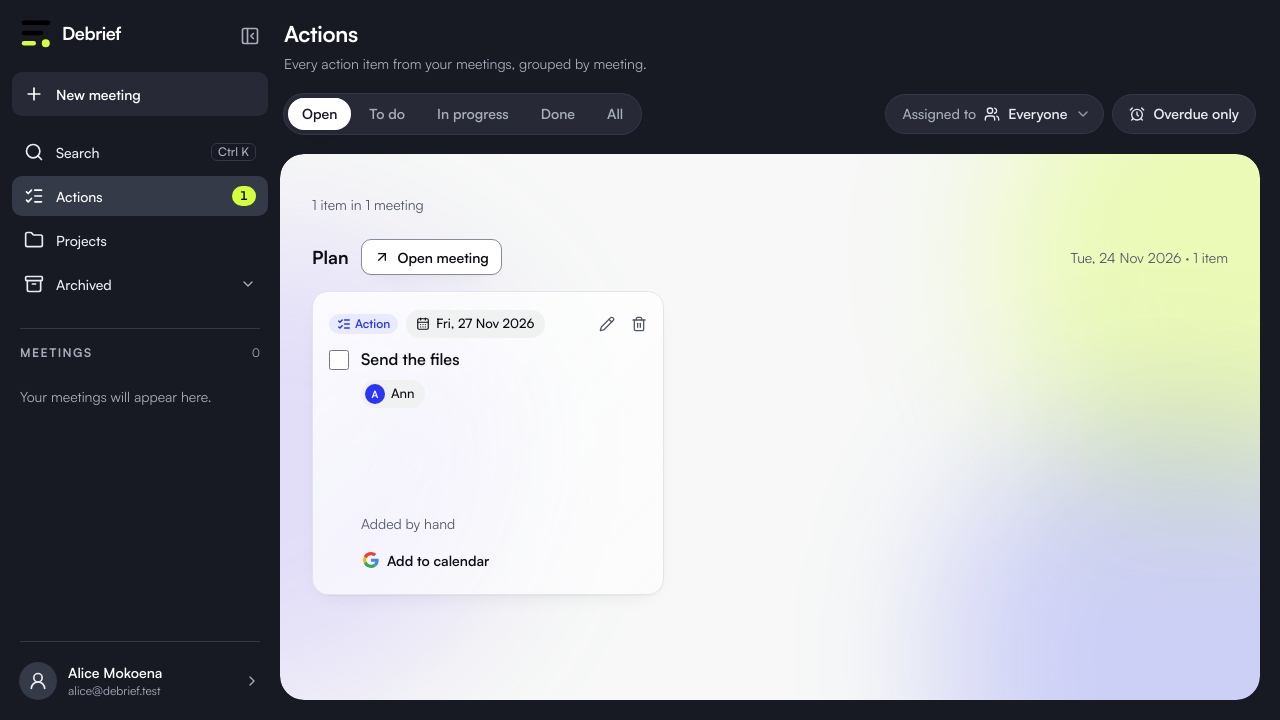
Test: "Add to calendar" on an action item › adds the item and links to the new event
Click the button with aria-label "Add “Send the files” in Google Calendar" at (426, 560), box [351, 542, 501, 578]
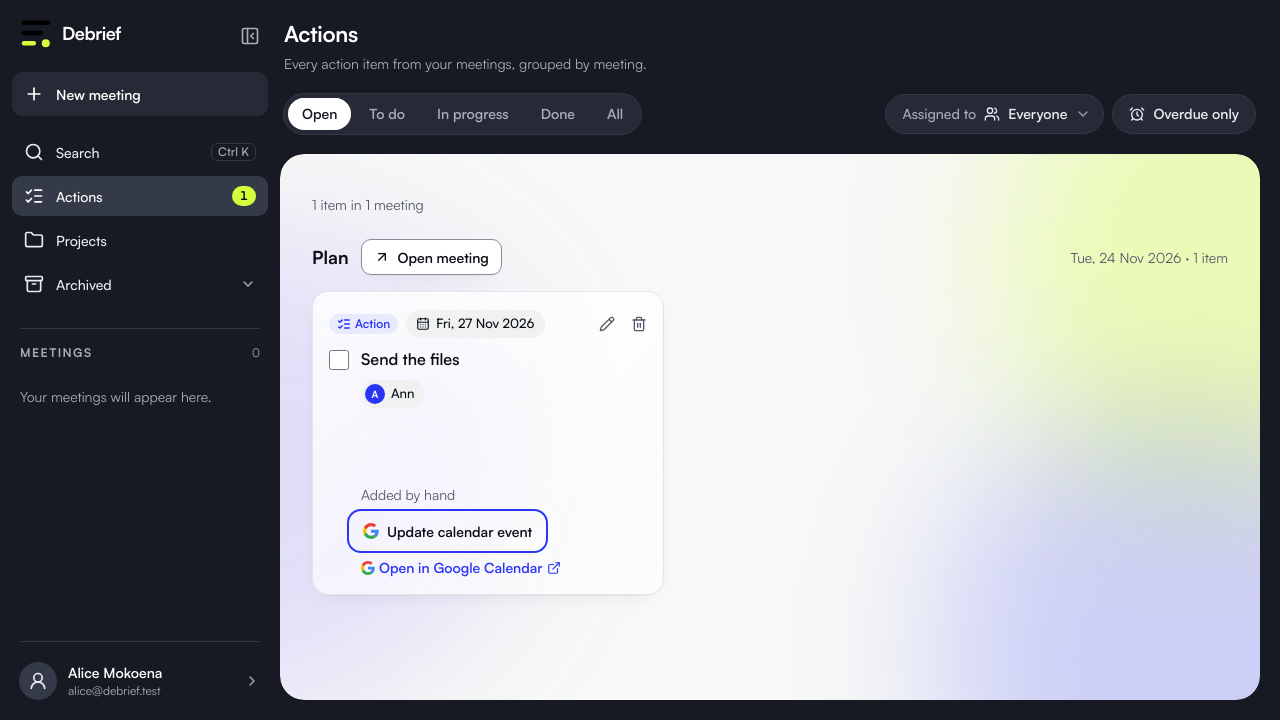
Check: the button with aria-label "Update “Send the files” in Google Calendar" is shown, box [351, 513, 544, 549]
